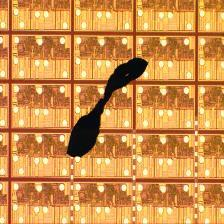PARTICLE: (65, 56, 151, 161)
